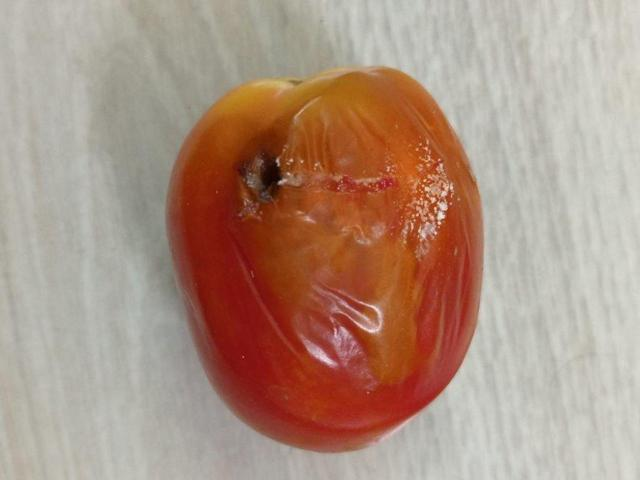defect: (161, 62, 492, 457)
